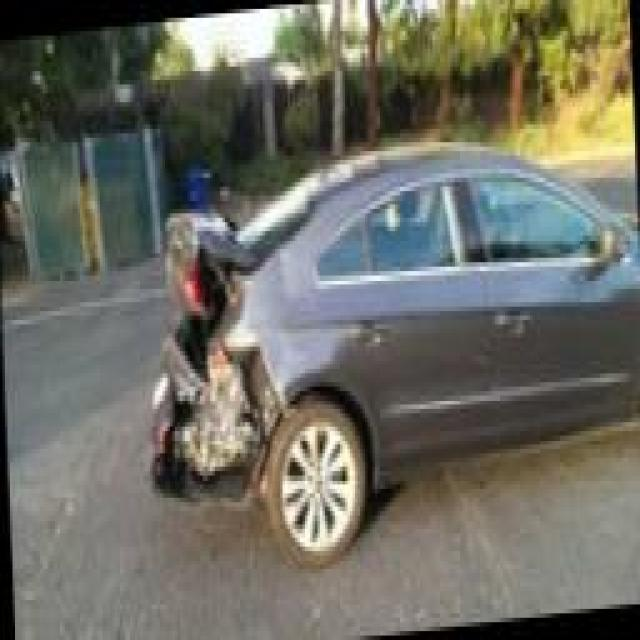Bumper: (142, 341, 262, 503)
Dickey: (163, 202, 255, 369)
Fender: (231, 234, 293, 424)
